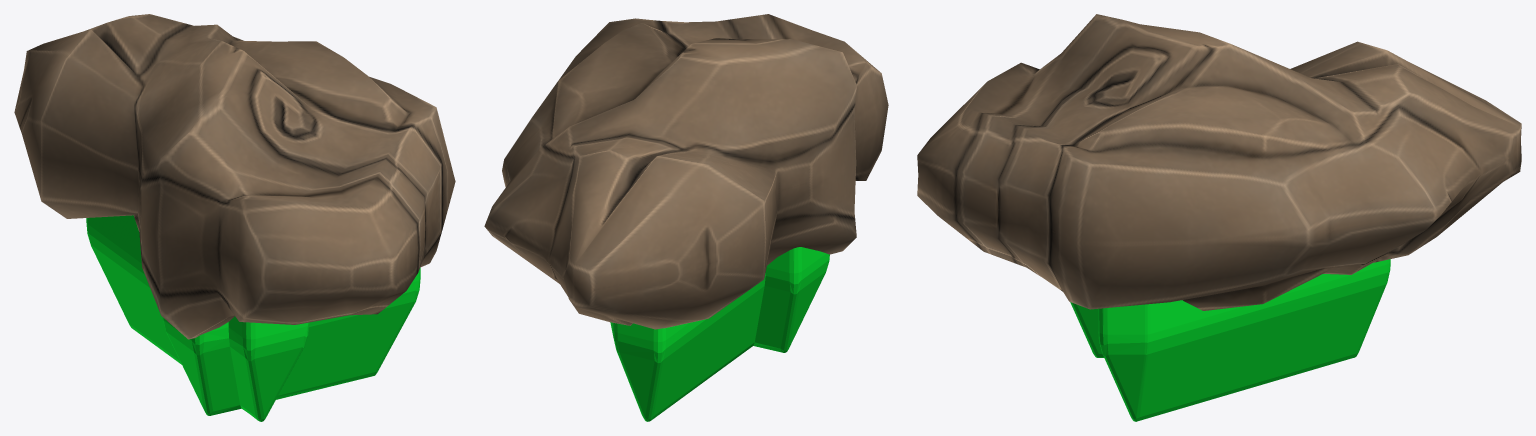
File: astn4.fbx
The picture shows the model from 3 angles, left to right: view 1: azimuth 30°, elevation 25°; view 2: azimuth 150°, elevation 25°; view 3: azimuth 270°, elevation 25°; orthographic projection. The views are drawn at different scales.
Parts seen in each view (by area): view 1: node_id88, node_id38; view 2: node_id88, node_id38; view 3: node_id88, node_id38.
Boxes of the visible parts, box(x1,y1,x2,y2) form: node_id88: box(14, 14, 455, 339); node_id38: box(86, 215, 420, 421); node_id88: box(484, 14, 888, 329); node_id38: box(610, 247, 829, 421); node_id88: box(917, 14, 1521, 310); node_id38: box(1070, 259, 1390, 421).
Size of the model in its own units: 40.4 by 42.91 by 71.77.
2 materials, 2 textured.
